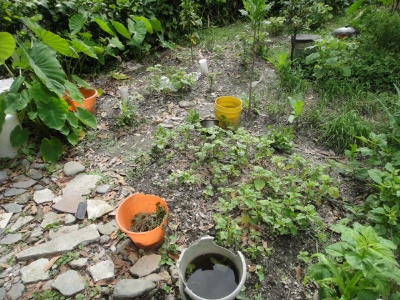bucket: (176, 236, 247, 300), (114, 190, 170, 251), (213, 95, 243, 131)
